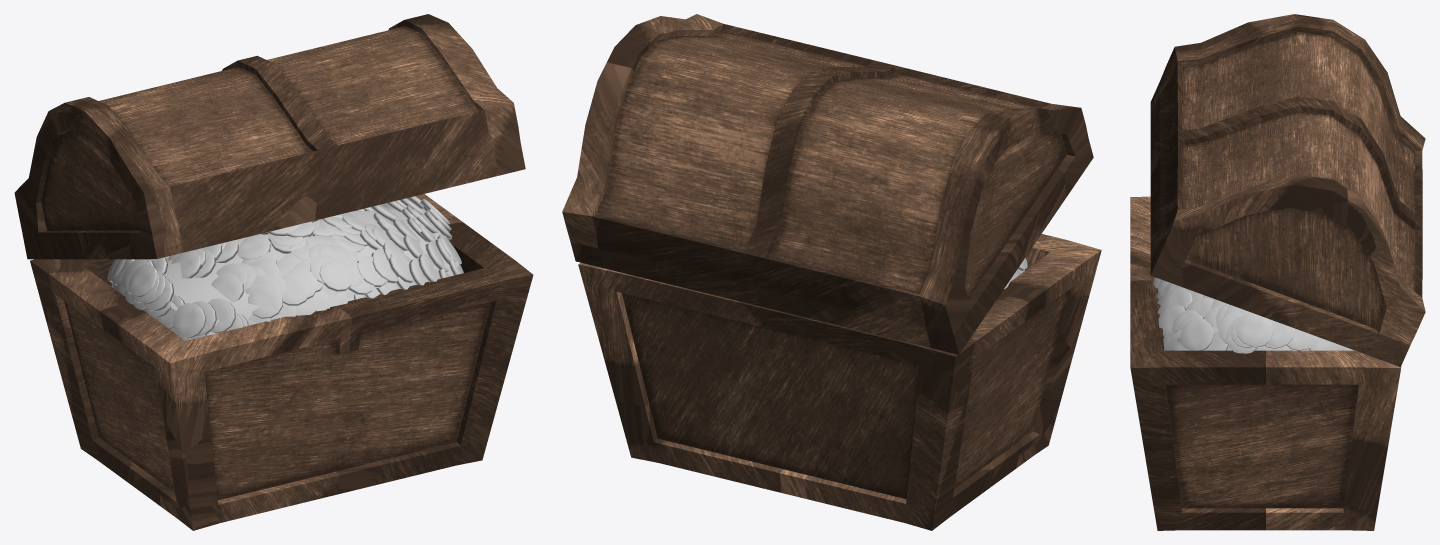
Rendered from treasureChest_mdl_v002.fbx.
The picture shows the model from 3 angles, left to right: view 1: azimuth 30°, elevation 25°; view 2: azimuth 150°, elevation 25°; view 3: azimuth 270°, elevation 25°; orthographic projection. The views are drawn at different scales.
Visible parts, largest first — view 1: bottom_geo, lid_geo, treasure_doubloons_geo, treasure_base_geo; view 2: lid_geo, bottom_geo; view 3: lid_geo, bottom_geo, treasure_doubloons_geo.
Boxes of the visible parts, <box> form: bottom_geo: <box>30,194,533,530</box>; lid_geo: <box>14,14,525,259</box>; treasure_doubloons_geo: <box>107,196,463,340</box>; treasure_base_geo: <box>164,206,459,335</box>; lid_geo: <box>562,14,1093,354</box>; bottom_geo: <box>578,234,1101,530</box>; lid_geo: <box>1150,14,1425,366</box>; bottom_geo: <box>1130,196,1401,530</box>; treasure_doubloons_geo: <box>1153,277,1354,353</box>.
Bounding box in the file's own units: 7439 × 7240 × 5334.
